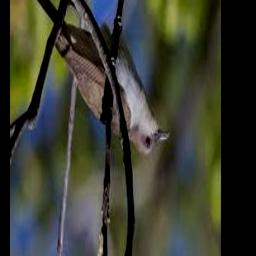Cuckoo: (13, 0, 169, 156)
